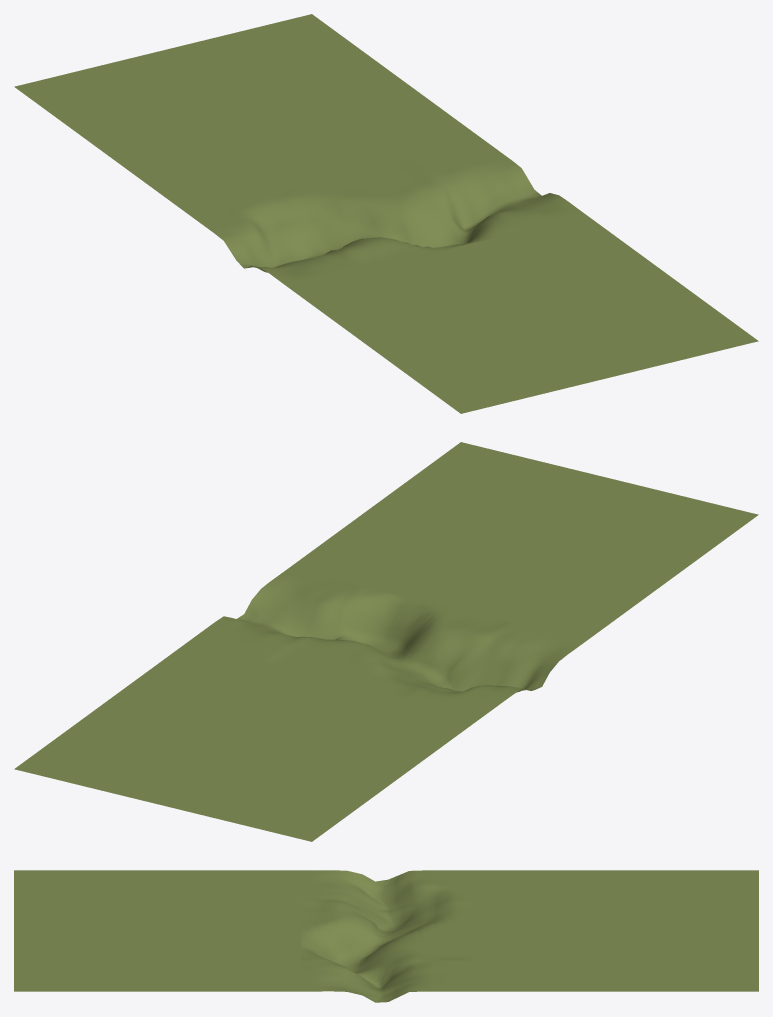
File: 2_2 Tile_4_smooth.fbx
3 renders of one model, top to bottom at view 1: azimuth 30°, elevation 25°; view 2: azimuth 150°, elevation 25°; view 3: azimuth 270°, elevation 25°, orthographic. The views are drawn at different scales.
Visible parts, largest first — view 1: Tile 4.001; view 2: Tile 4.001; view 3: Tile 4.001.
Part boxes in pixels (bbox=[...]): Tile 4.001: bbox=[14, 14, 758, 413]; Tile 4.001: bbox=[14, 442, 758, 841]; Tile 4.001: bbox=[14, 870, 758, 1002].
Bounding box in the file's own units: 5000 × 511 × 12991.
